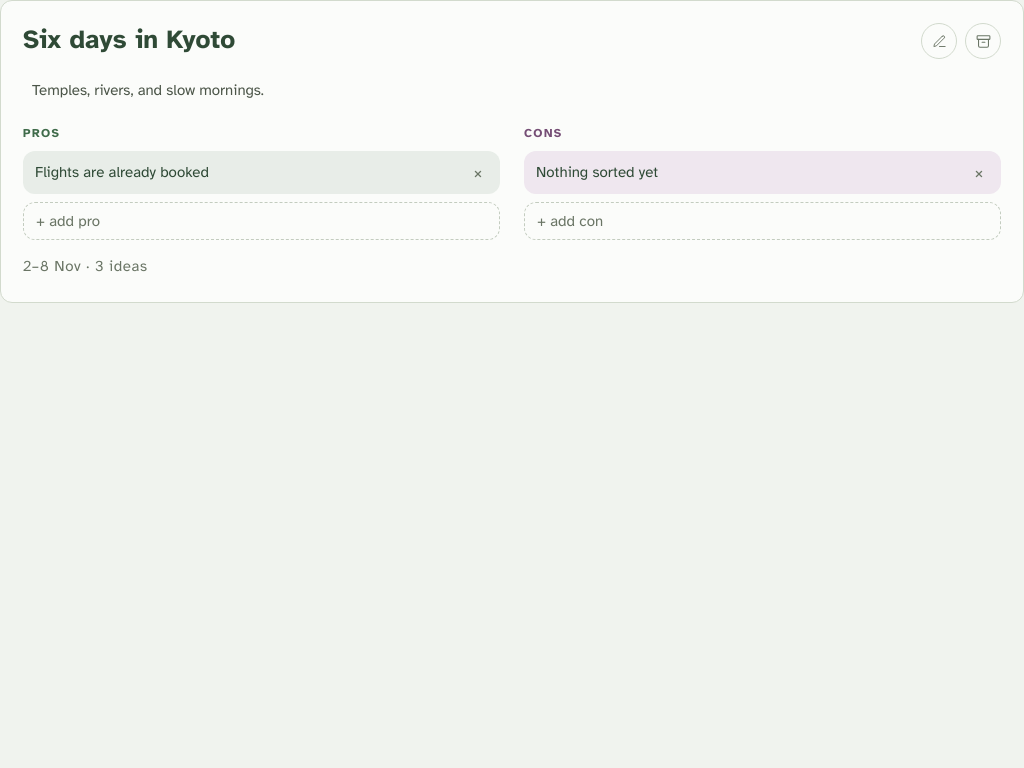
Test: TripCard › saves a new title on blur and shows the link again
Click the button named "Edit Six days in Kyoto": [939, 41] box x1=921 y1=23 x2=957 y2=59
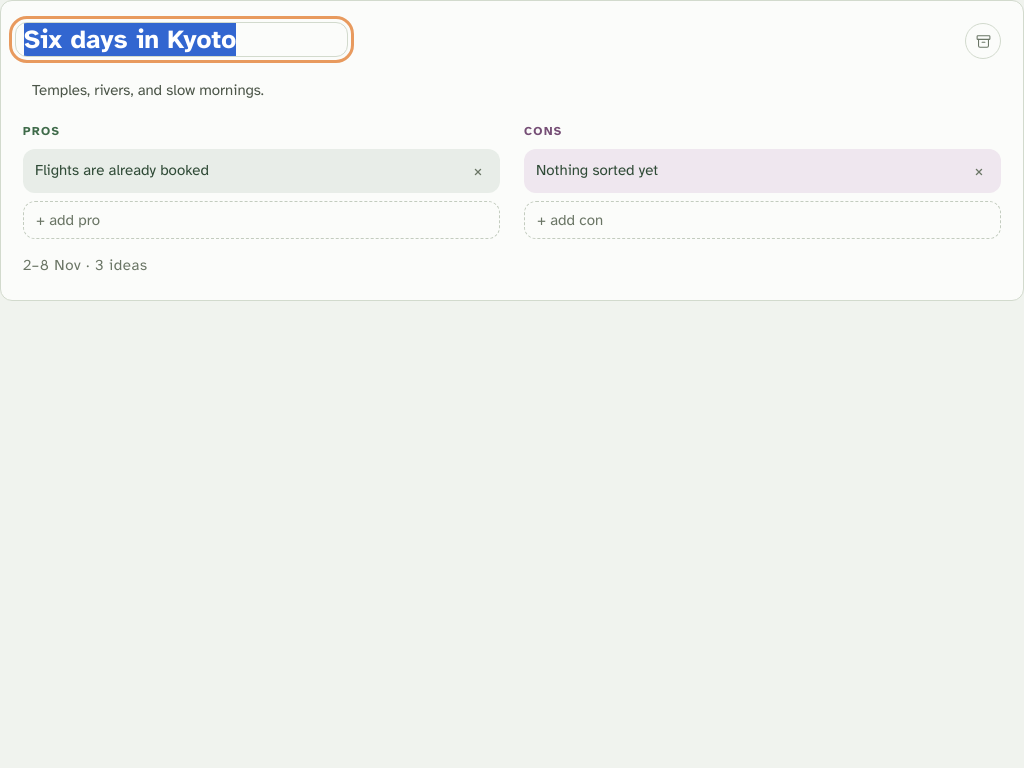
Replace the text in the field named "Trip name for Six days in Kyoto" with "Kyoto in autumn": [182, 39] box x1=15 y1=22 x2=348 y2=57
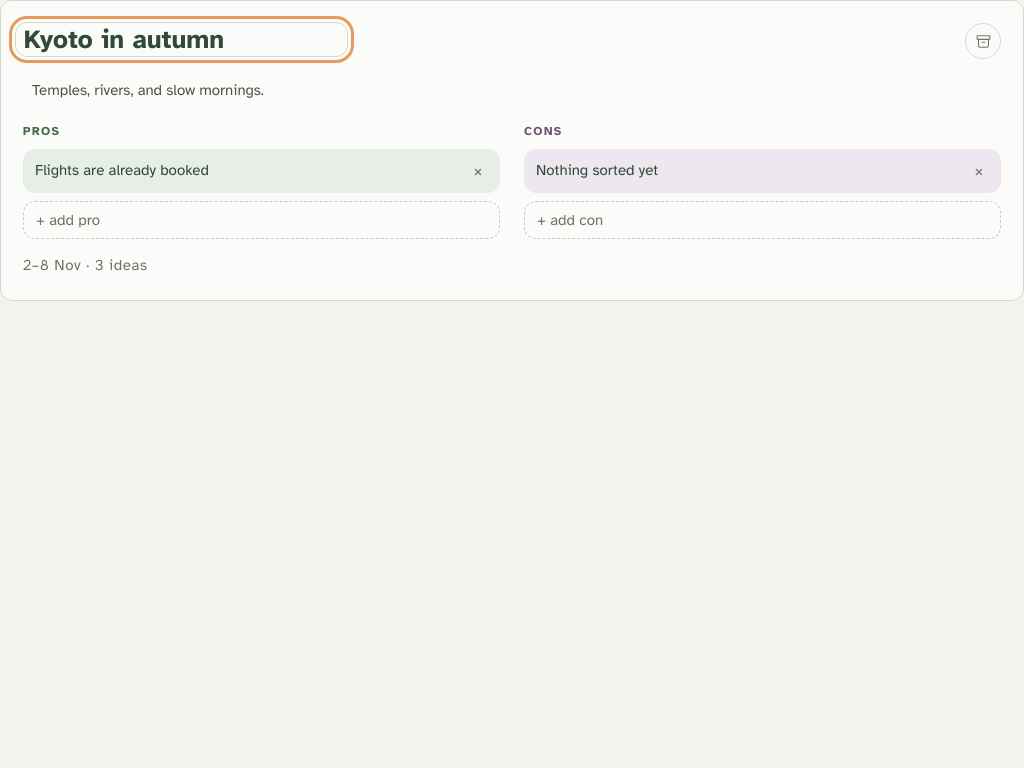
Click the element that starts with "Temples, rivers, and slow mornings.": [512, 384] box x1=0 y1=0 x2=1023 y2=767
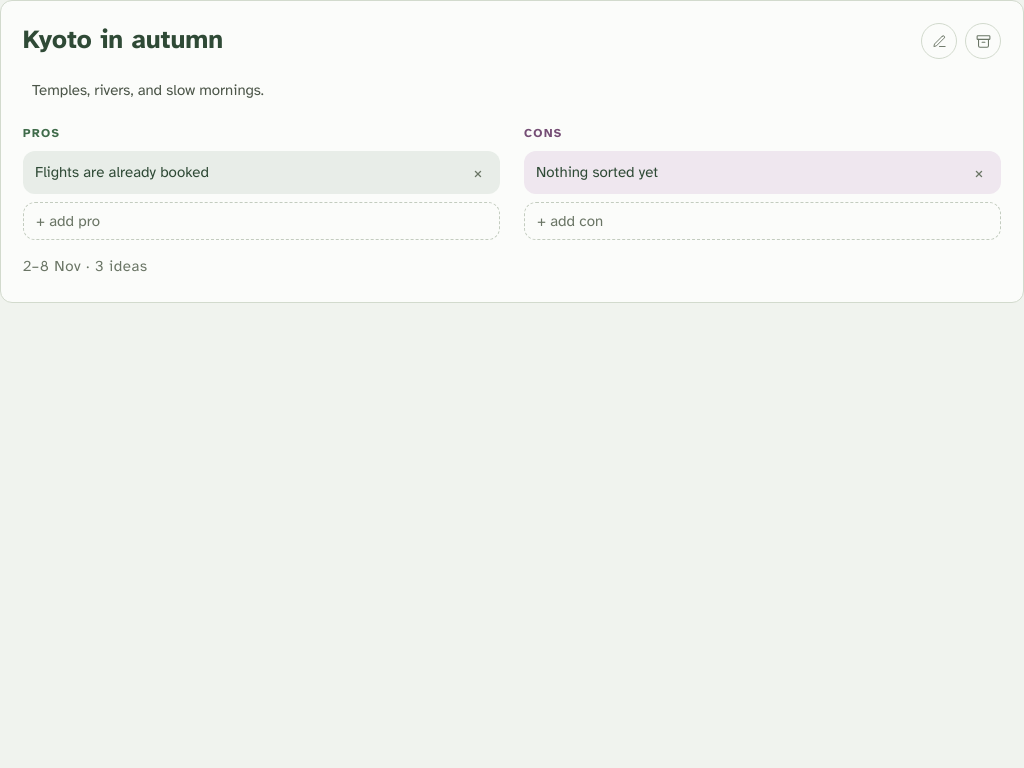
Result: the link "Kyoto in autumn" is shown at x1=23 y1=23 x2=223 y2=56
